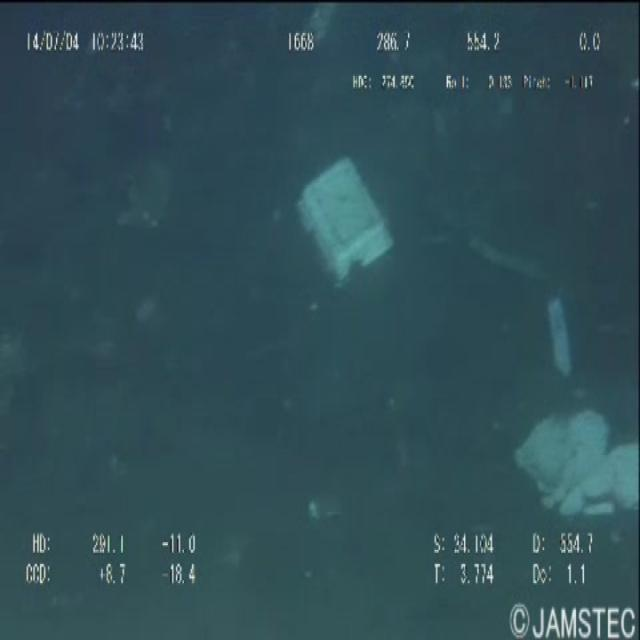Cutlery: (289, 150, 396, 314)
Plastic: (508, 402, 640, 535), (526, 279, 585, 386)
